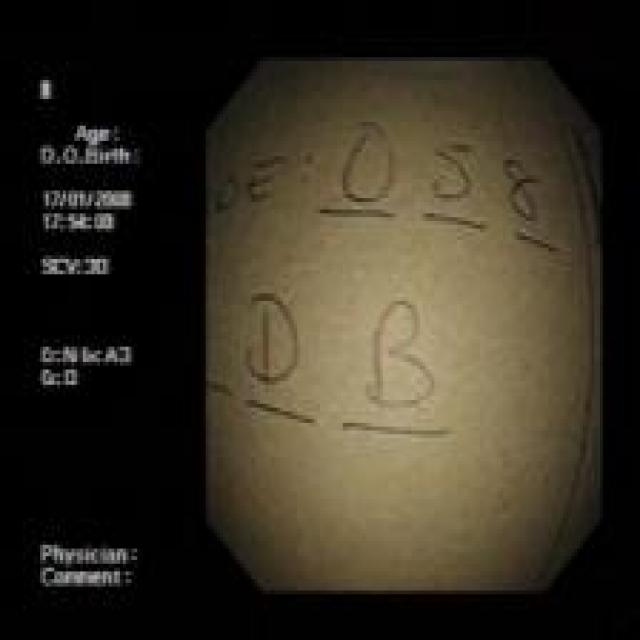color misalignment: (208, 58, 602, 591), (35, 70, 150, 602)
